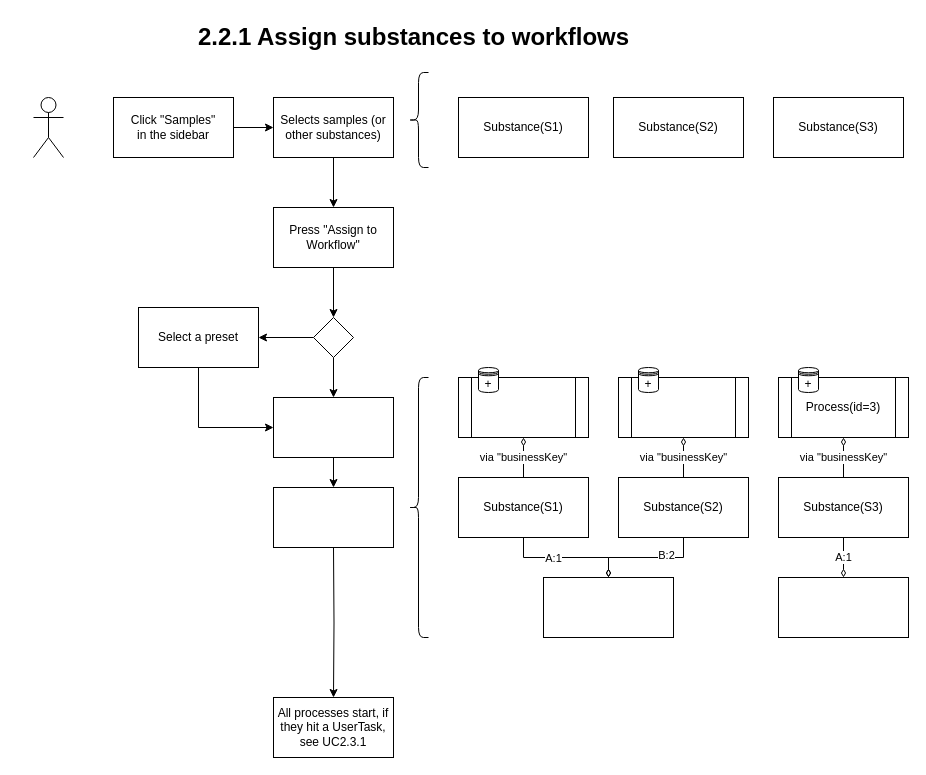
Some shapes in this 926 by 775 pixel diagram are drawn without their labels. The shapes that lost their labels are listed below. From the top down, each one's box as (x1, y1, x2, y2) in pixels, then its label:
(32, 96, 64, 158): Coordinator
(272, 396, 394, 458): Select a workflow and variables
(458, 376, 588, 438): Process(id=1)
(618, 376, 748, 438): Process(id=2)
(272, 486, 394, 548): Press "Assign"
(542, 576, 674, 638): Container(name=C1)
(778, 576, 908, 638): Container(name=C2)
